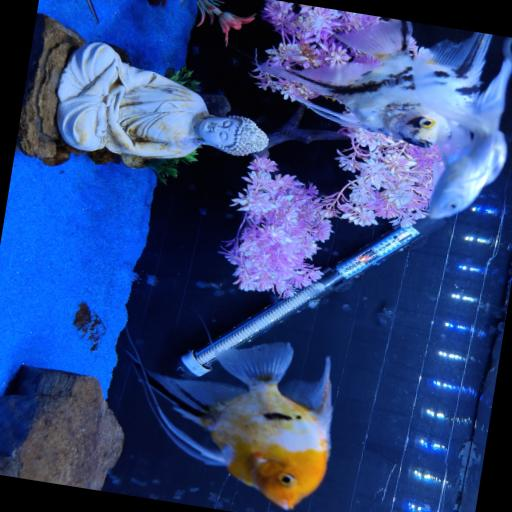Fish: (129, 342, 331, 508), (259, 19, 490, 147), (427, 59, 511, 217)
